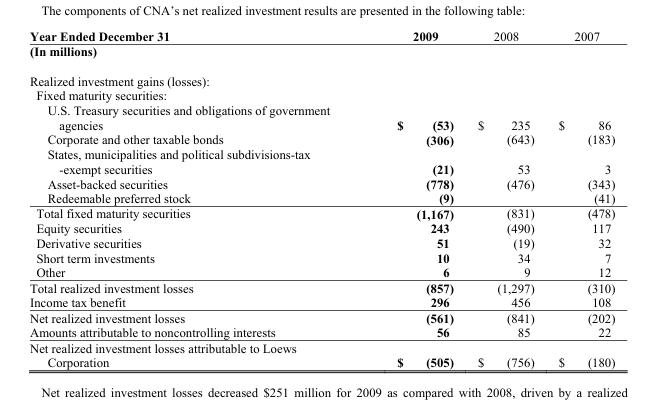table: (28, 28, 614, 369)
table column: (28, 28, 362, 369), (362, 28, 465, 369), (465, 28, 545, 369), (545, 28, 614, 369)
table column header: (28, 28, 614, 43)
table projected row header: (28, 43, 614, 65), (28, 65, 614, 87), (28, 87, 614, 102)
table row: (28, 339, 614, 369), (28, 102, 614, 131), (28, 146, 614, 175), (28, 43, 614, 65), (28, 65, 614, 87), (28, 28, 614, 43), (28, 87, 614, 102), (28, 131, 614, 146), (28, 175, 614, 190), (28, 190, 614, 205), (28, 205, 614, 220), (28, 220, 614, 235), (28, 235, 614, 250), (28, 264, 614, 279), (28, 279, 614, 294), (28, 294, 614, 309), (28, 309, 614, 324), (28, 324, 614, 339), (28, 250, 614, 264)
